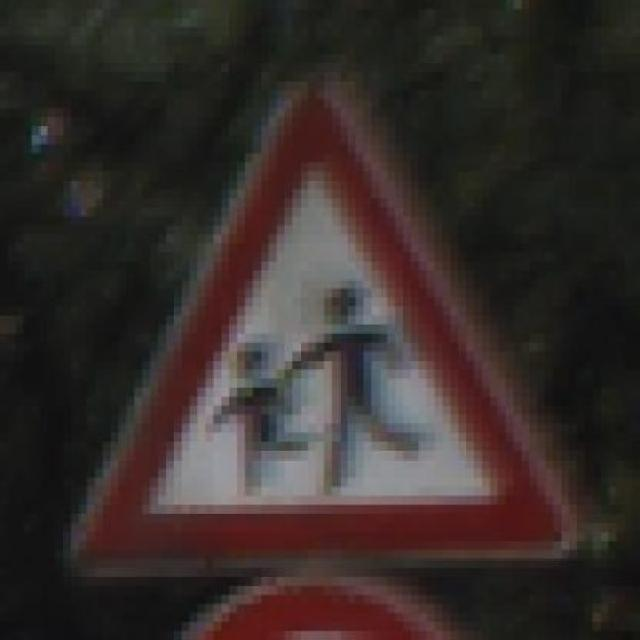Beware of children: (54, 61, 575, 584)
